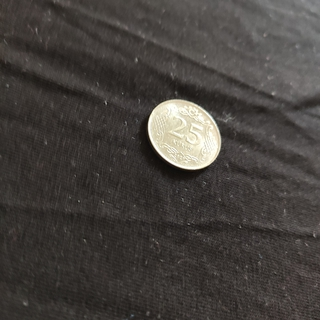25KURUS: (145, 96, 223, 172)
